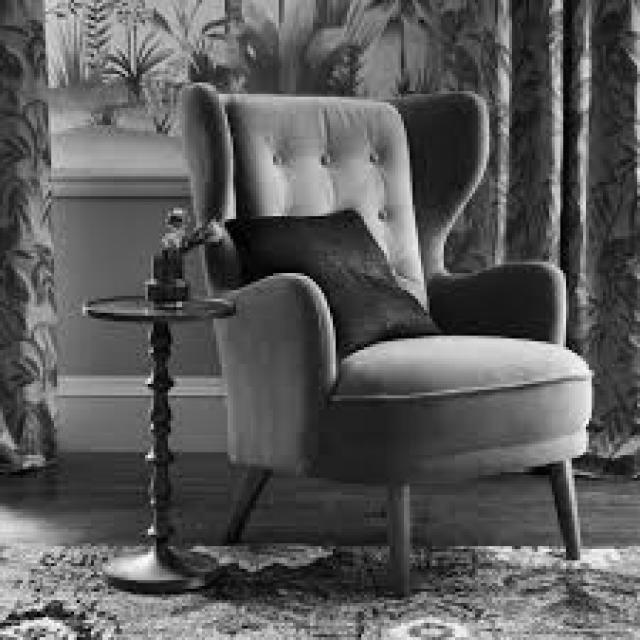chair: (177, 81, 593, 588)
